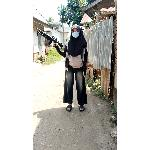Senapan: (34, 26, 66, 52)
